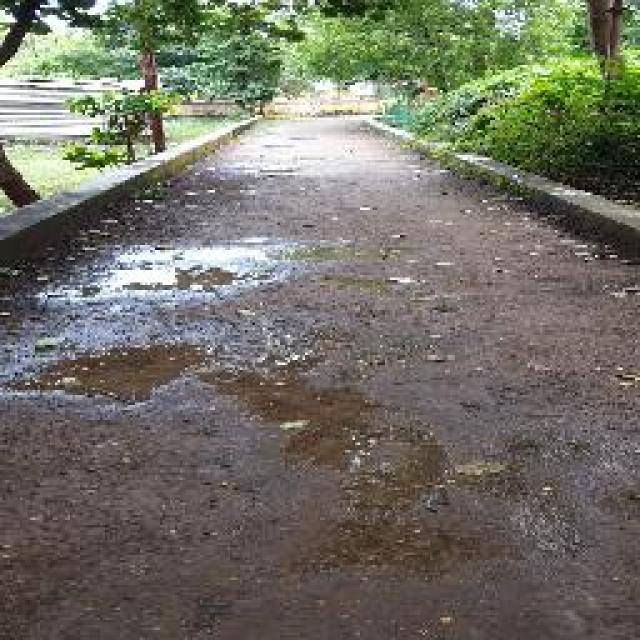stagnation: (95, 224, 358, 316), (0, 330, 222, 412)
